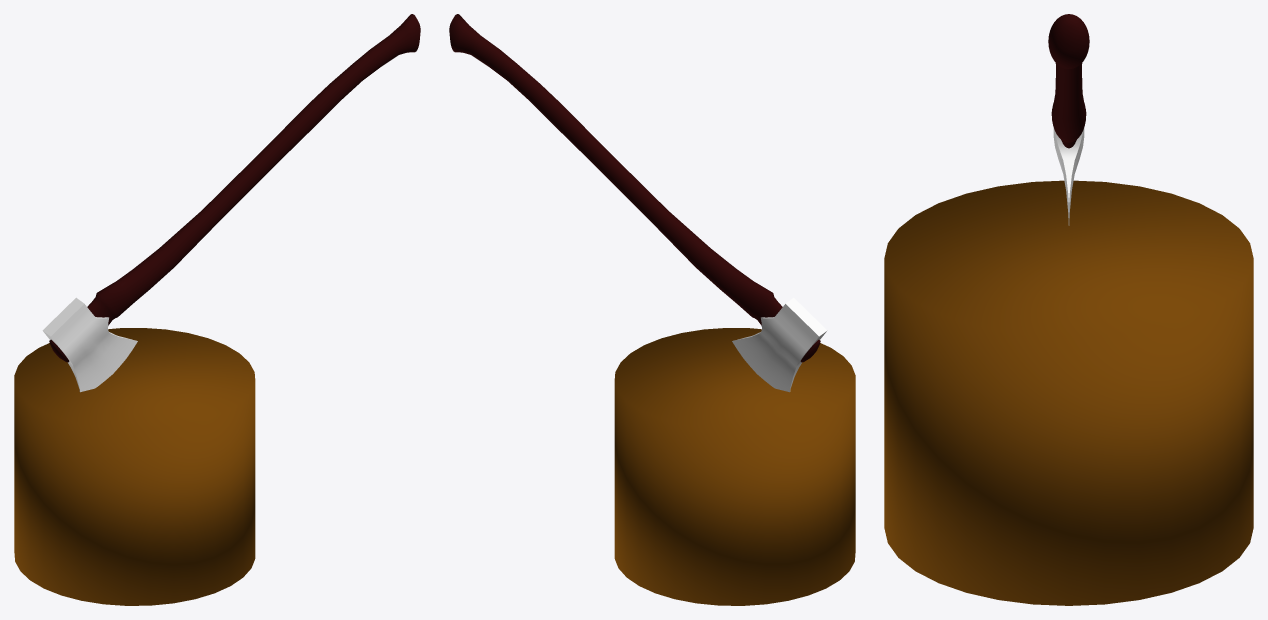
Rendered from axebg.fbx.
3 views of the same model, side by side, from view 1: azimuth 30°, elevation 25°; view 2: azimuth 150°, elevation 25°; view 3: azimuth 270°, elevation 25° (orthographic). The views are drawn at different scales.
Parts seen in each view (by area): view 1: Cylinder, Cube; view 2: Cylinder, Cube; view 3: Cylinder, Cube.
Part boxes in pixels (x1,y1,x2,y2): Cylinder: (14, 328, 255, 605); Cube: (42, 14, 420, 392); Cylinder: (614, 328, 855, 605); Cube: (449, 14, 827, 392); Cylinder: (884, 180, 1253, 605); Cube: (1048, 14, 1089, 225).
Size of what is drawn, in the model's own units: 5.46 by 6.35 by 2.94.
